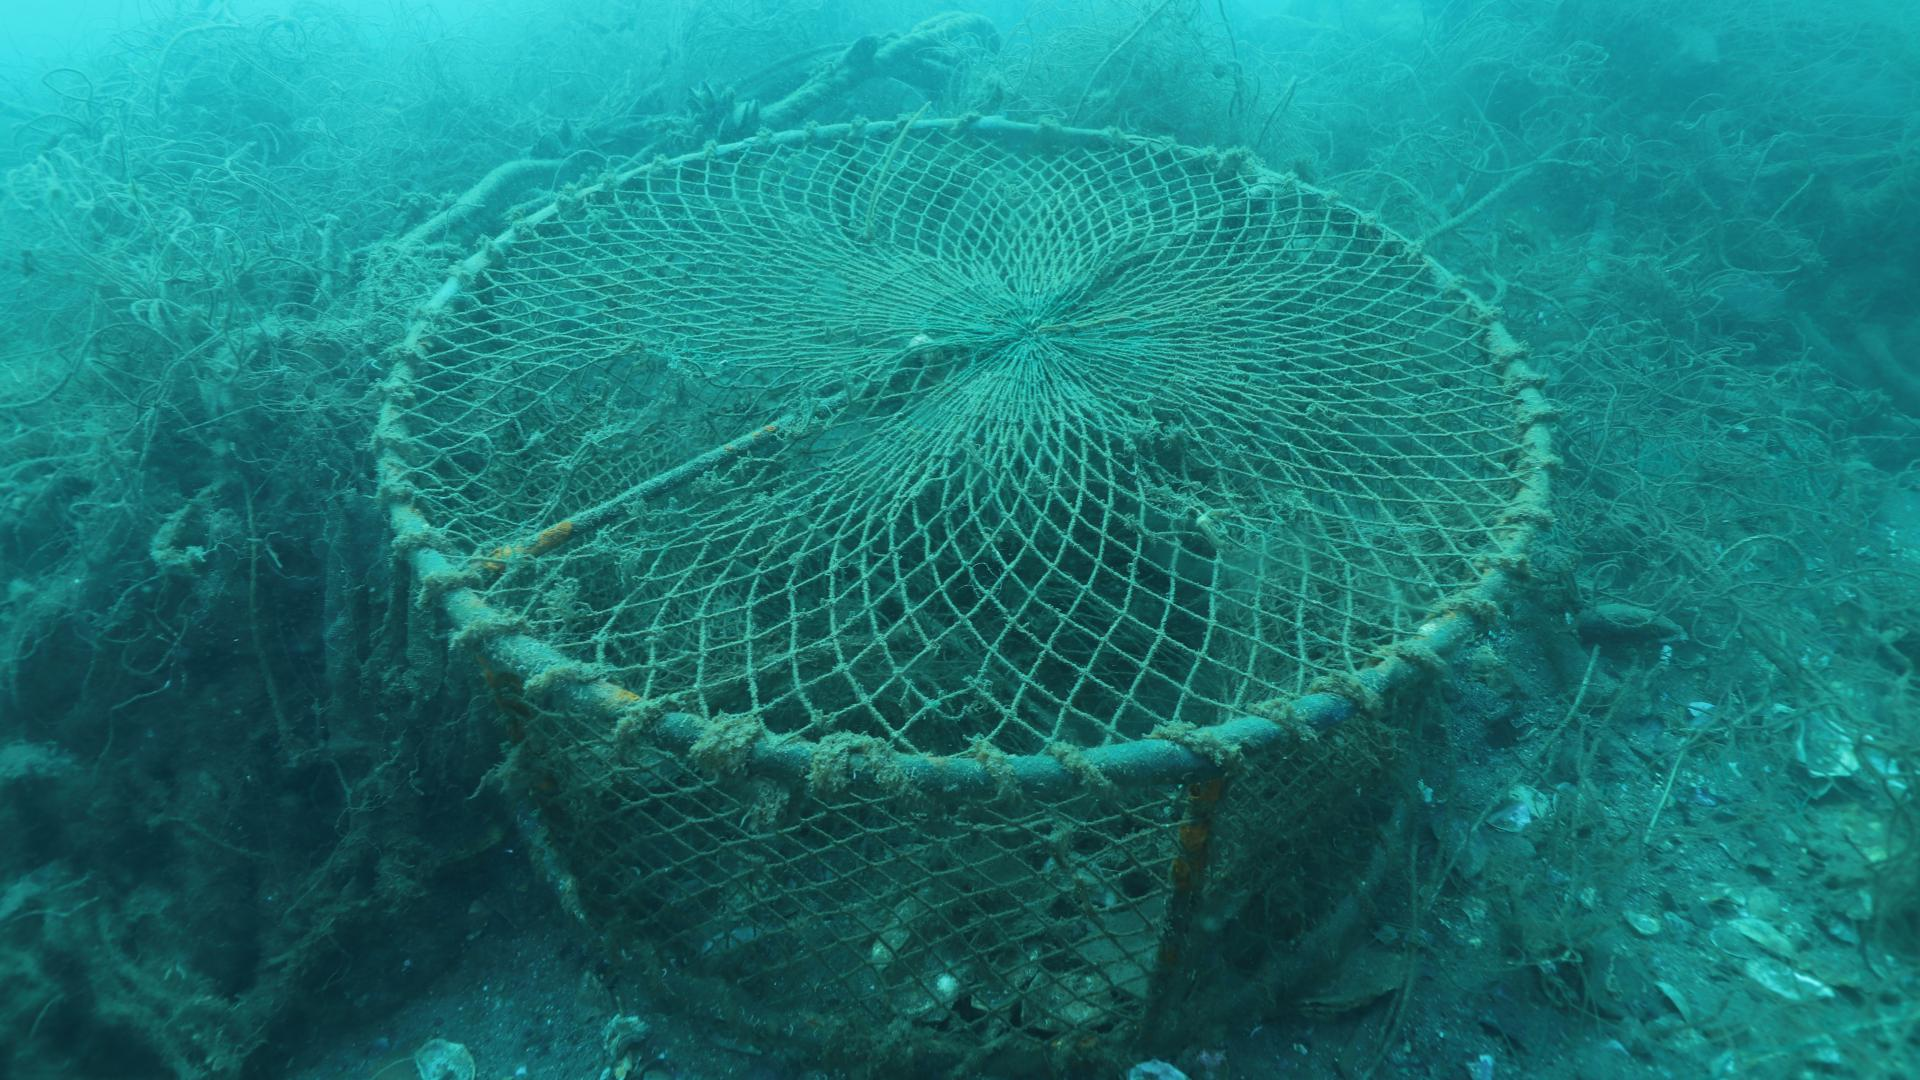circular fish trap: (371, 115, 1557, 1079)
